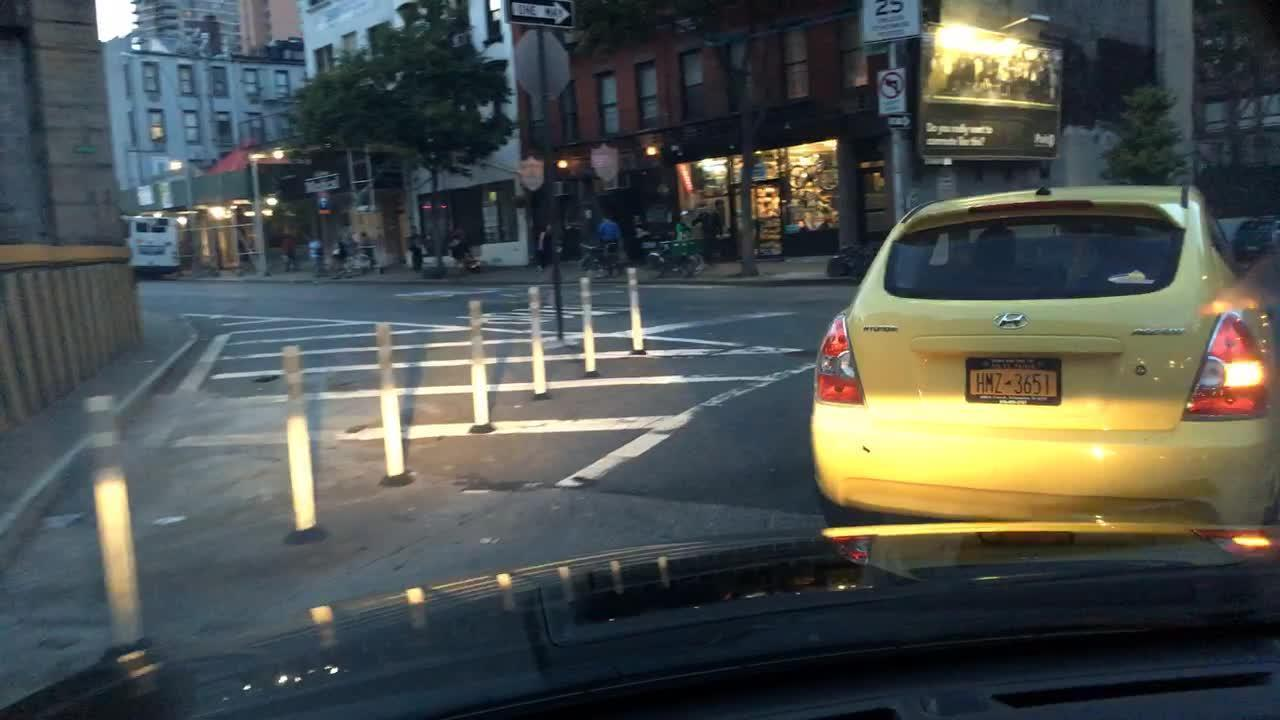Hyundai: (985, 307, 1036, 337)
